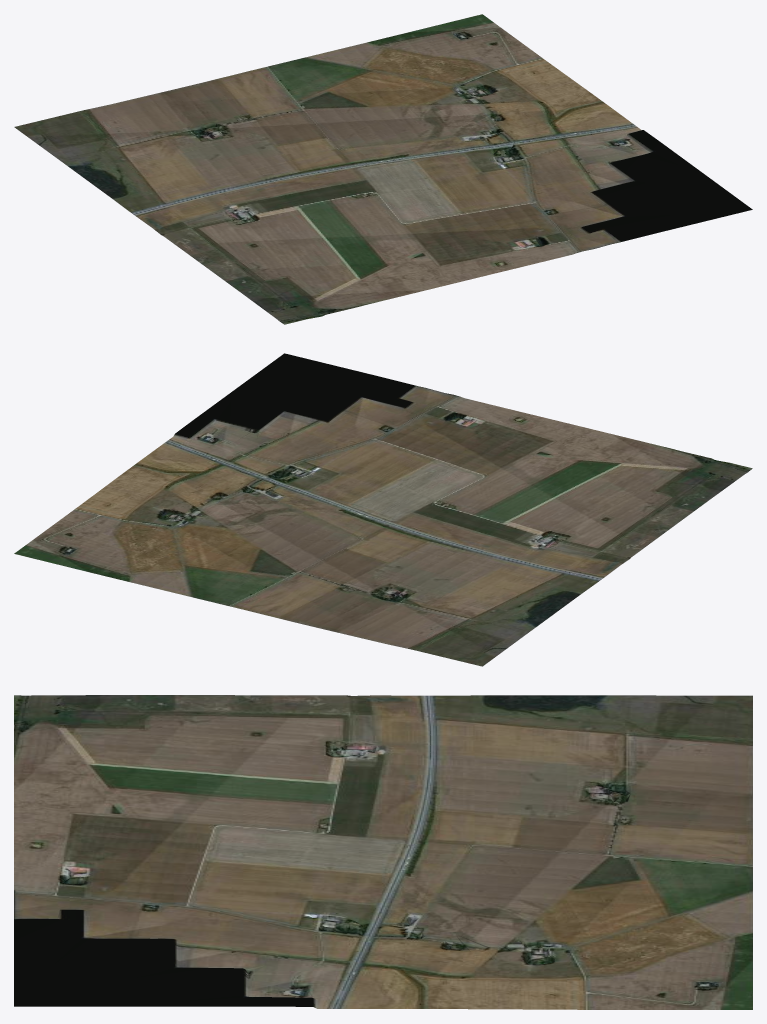
The model's file is map_10_256_428.dae.
3 views of the same model, one above another, from view 1: azimuth 30°, elevation 25°; view 2: azimuth 150°, elevation 25°; view 3: azimuth 270°, elevation 25° (orthographic). The views are drawn at different scales.
Parts seen in each view (by area): view 1: Ter0; view 2: Ter0; view 3: Ter0.
Boxes of the visible parts, x1,y1,x2,y2 form: Ter0: (14, 14, 752, 324); Ter0: (14, 353, 752, 666); Ter0: (14, 695, 752, 1009).
Size of the model in its own units: 2044 by 2044 by 22.56.
3 materials, 3 textured.
